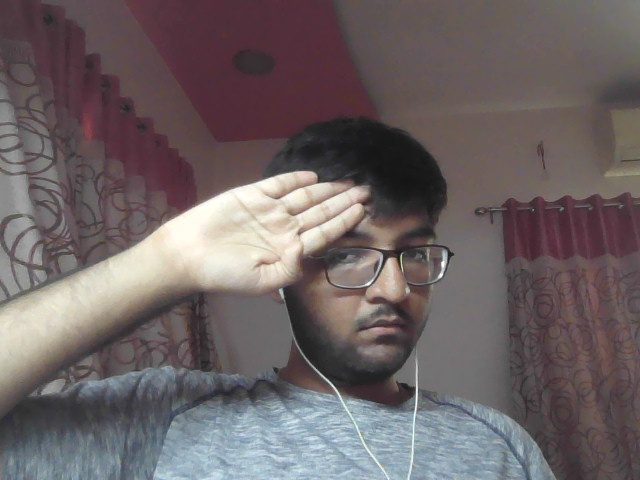નમસ્તે: (135, 153, 383, 308)
